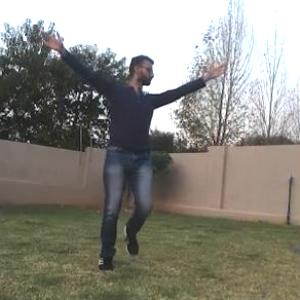takeoff: (35, 23, 236, 274)
